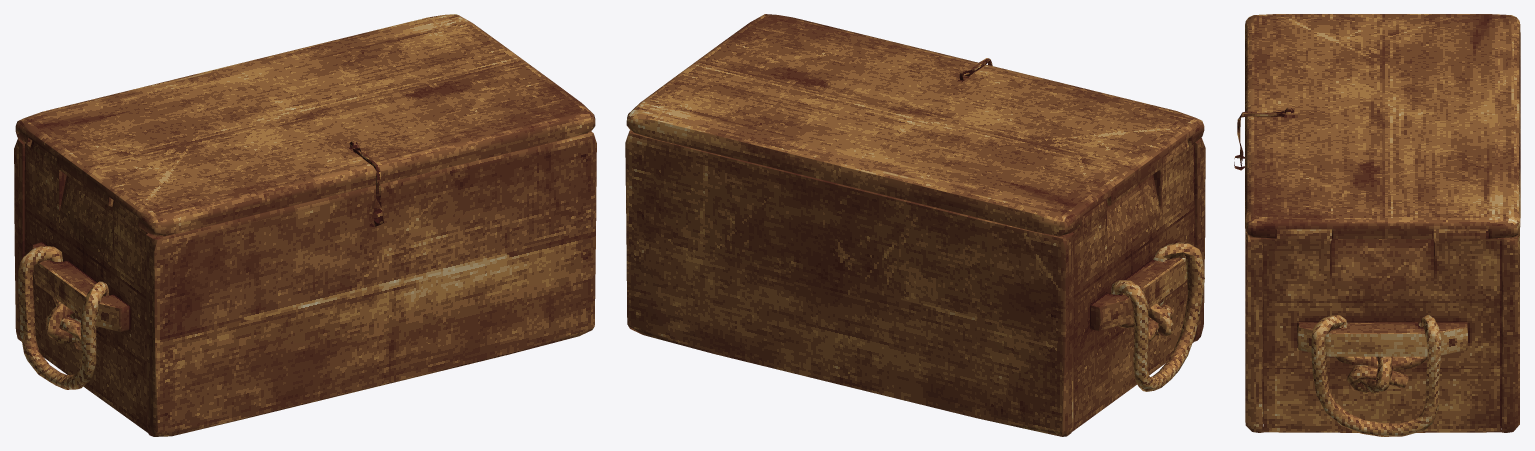
The model's file is wooden_crate_01.glb.
The picture shows the model from 3 angles, left to right: view 1: azimuth 30°, elevation 25°; view 2: azimuth 150°, elevation 25°; view 3: azimuth 270°, elevation 25°; orthographic projection. The views are drawn at different scales.
Visible parts, largest first — view 1: body; view 2: body; view 3: body.
Boxes of the visible parts, x1,y1,x2,y2 form: body: (14,14,596,436); body: (625,14,1205,436); body: (1234,14,1520,436).
Size of the model in its own units: 0.8255 by 0.3496 by 0.4073.
1 material, 1 textured.
